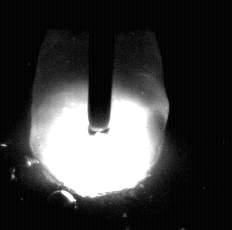arame: (88, 0, 113, 128)
poca: (29, 0, 166, 230)
